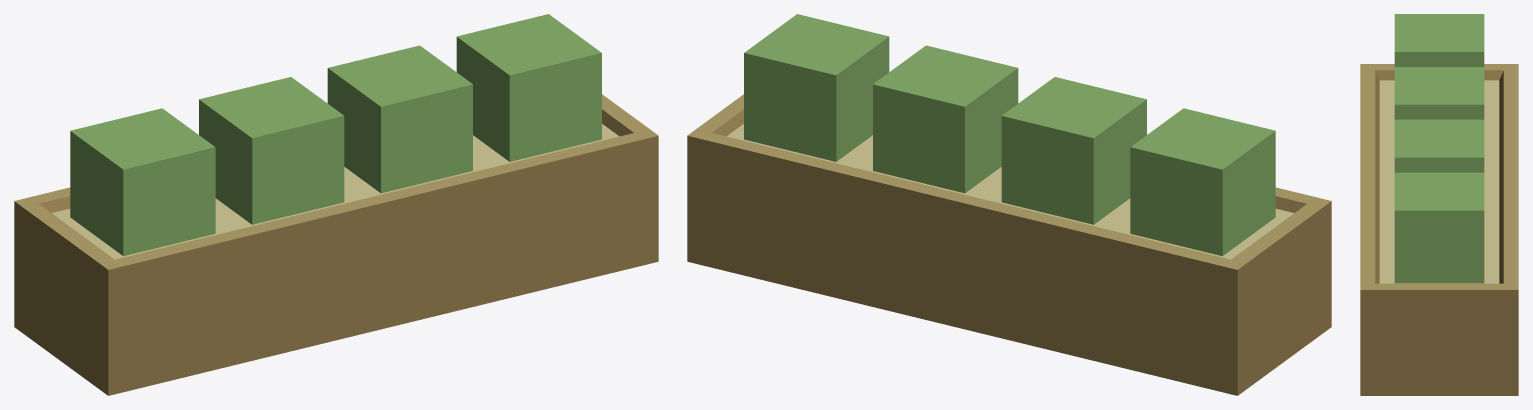
File: vegetation_011.fbx
The picture shows the model from 3 angles, left to right: view 1: azimuth 30°, elevation 25°; view 2: azimuth 150°, elevation 25°; view 3: azimuth 270°, elevation 25°; orthographic projection. The views are drawn at different scales.
Parts seen in each view (by area): view 1: vegetation_011; view 2: vegetation_011; view 3: vegetation_011.
Part boxes in pixels (x1,y1,x2,y2): vegetation_011: (14,14,658,395); vegetation_011: (687,14,1331,395); vegetation_011: (1360,14,1518,395).
Size of the model in its own units: 200 by 70.19 by 59.15.
